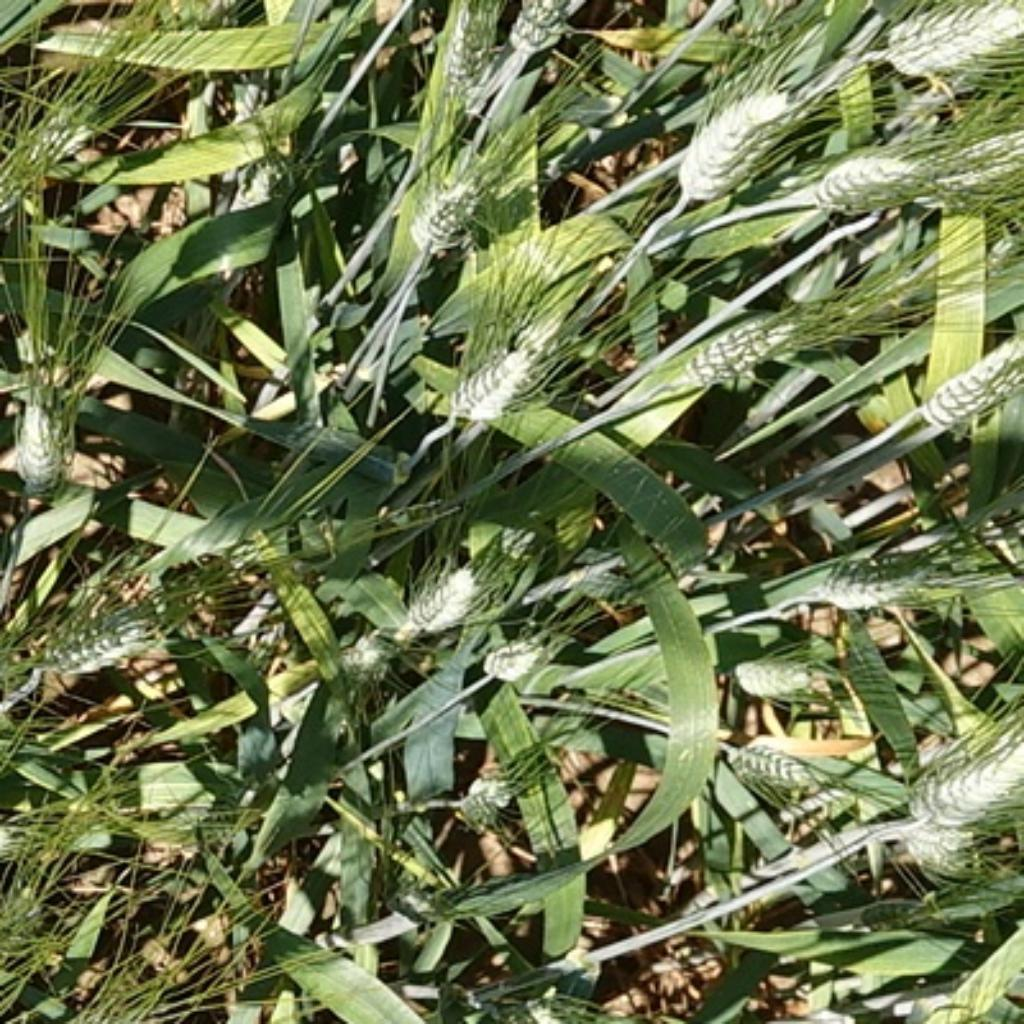0-0: (814, 527, 1008, 622), (663, 64, 801, 194), (20, 560, 158, 680), (668, 286, 821, 391), (430, 320, 552, 448), (898, 711, 1024, 832), (801, 128, 967, 215), (0, 332, 84, 496), (909, 332, 1024, 441), (871, 2, 1019, 76), (0, 108, 92, 224), (407, 156, 501, 258), (309, 616, 399, 709), (427, 2, 506, 107), (719, 727, 834, 798), (389, 550, 483, 634), (888, 811, 990, 872), (501, 960, 596, 1024), (223, 141, 292, 223), (724, 642, 824, 696), (453, 750, 519, 821), (499, 2, 581, 58), (478, 624, 555, 680)
